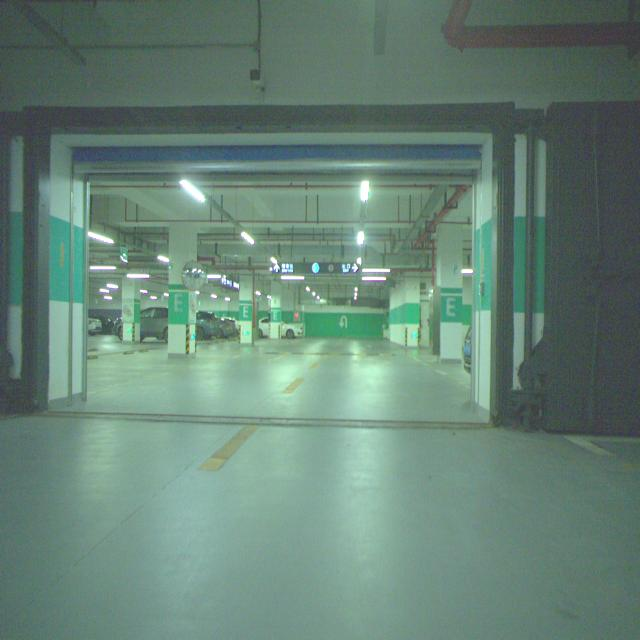pillar: (169, 222, 198, 357), (436, 223, 462, 362), (121, 278, 141, 342)
